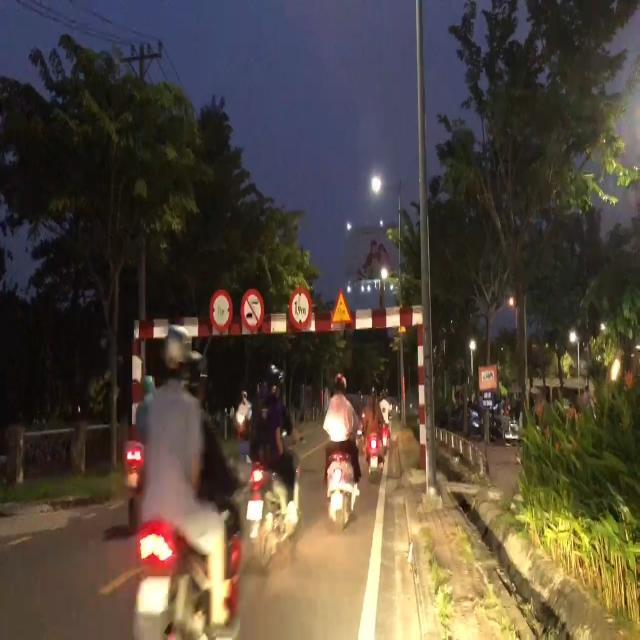Bien bao cam xe oto khach va xe oto tai: (240, 284, 266, 333)
Bien bao chieu cao tinh khong thuc te: (330, 284, 353, 328)
Bien bao han che chieu cao: (287, 281, 315, 329)
